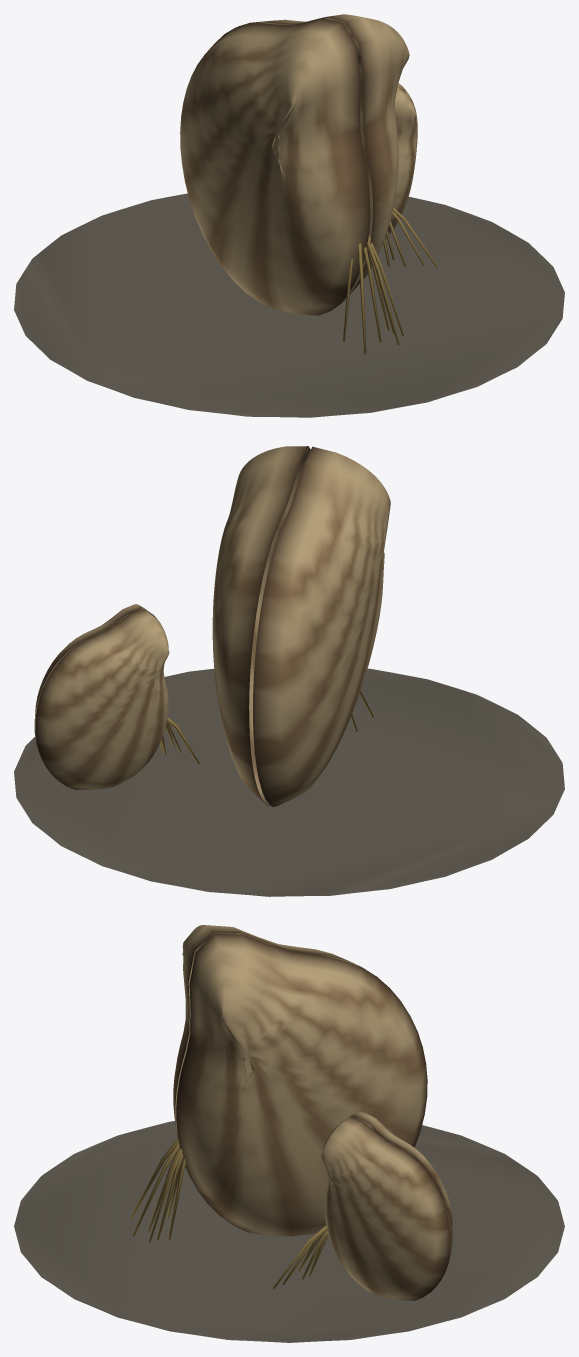
Rendered from AmbonychiaRadiata.fbx.
The picture shows the model from 3 angles, top to bottom: view 1: azimuth 30°, elevation 25°; view 2: azimuth 150°, elevation 25°; view 3: azimuth 270°, elevation 25°; orthographic projection.
Parts seen in each view (by area): view 1: AmbonychiaRadiata; view 2: AmbonychiaRadiata; view 3: AmbonychiaRadiata.
Part boxes in pixels (x1,y1,x2,y2): AmbonychiaRadiata: [14, 14, 564, 417]; AmbonychiaRadiata: [14, 446, 564, 896]; AmbonychiaRadiata: [14, 925, 564, 1342].
Size of the model in its own units: 1.7 by 1.07 by 1.7.
